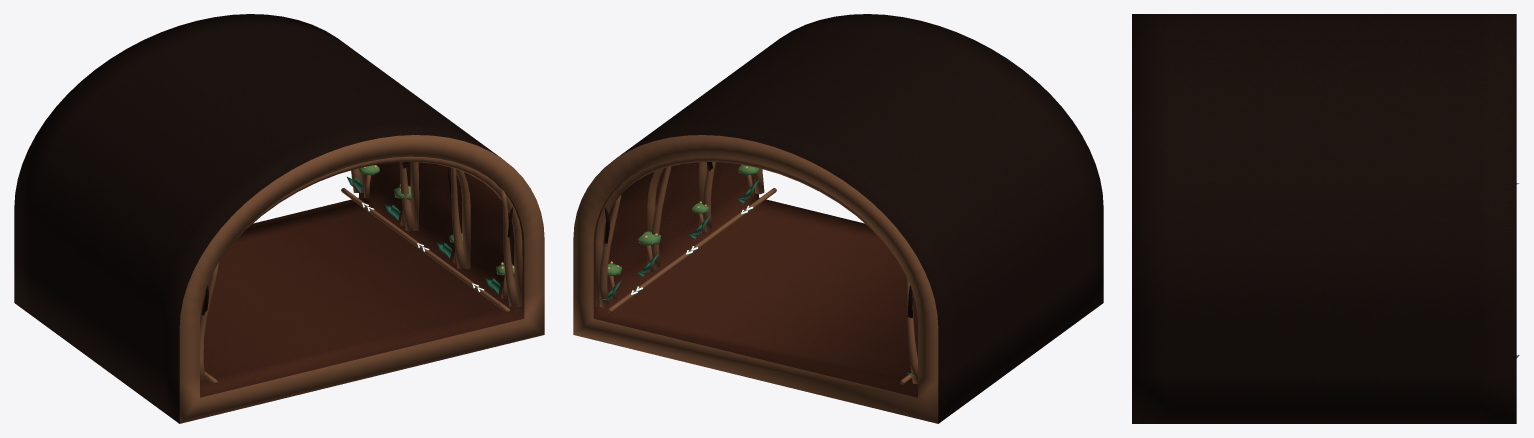
The model's file is straight_12m_lod1.glb.
The picture shows the model from 3 angles, left to right: view 1: azimuth 30°, elevation 25°; view 2: azimuth 150°, elevation 25°; view 3: azimuth 270°, elevation 25°; orthographic projection. The views are drawn at different scales.
Parts seen in each view (by area): view 1: TunnelGeometry.001; view 2: TunnelGeometry.001; view 3: TunnelGeometry.001.
Part boxes in pixels (bbox=[...]): TunnelGeometry.001: bbox=[14, 14, 544, 423]; TunnelGeometry.001: bbox=[573, 14, 1103, 423]; TunnelGeometry.001: bbox=[1132, 14, 1519, 423].
Bounding box in the file's own units: 15.3 × 9.52 × 12.1.
Materials: 7 (2 with a texture image).
